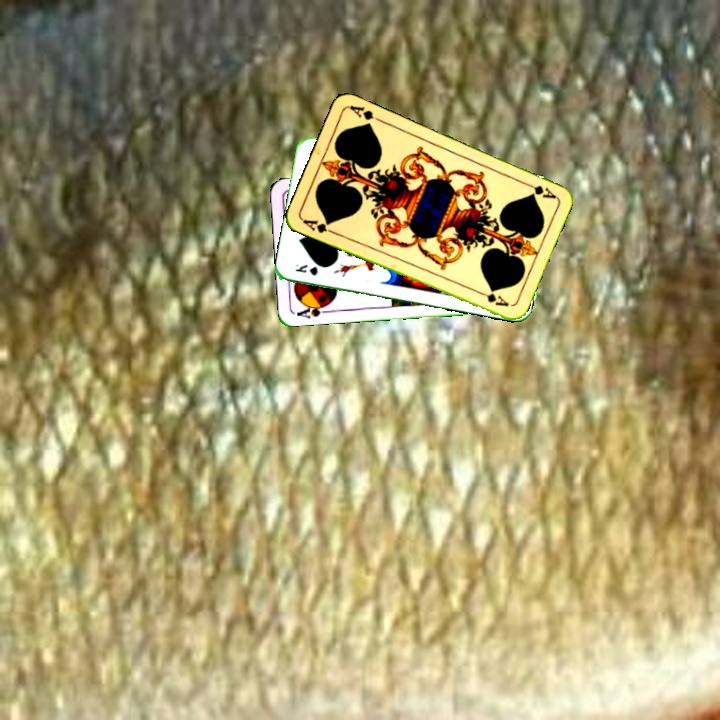GA: (520, 178, 558, 201), (299, 215, 338, 237)
GK: (291, 260, 320, 278)
SA: (293, 300, 333, 321)
